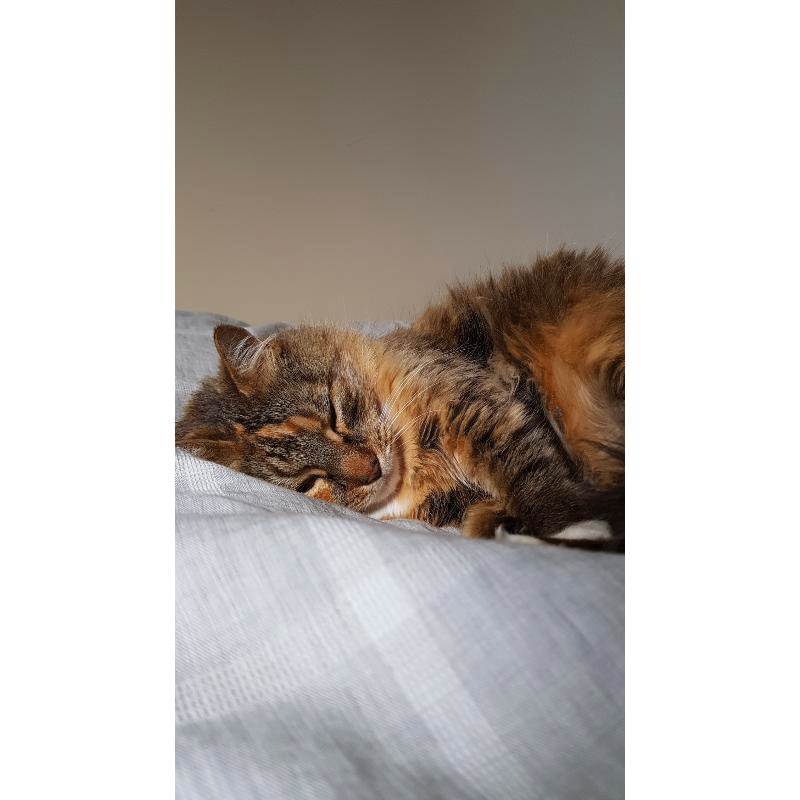yellow: (179, 248, 624, 543)
